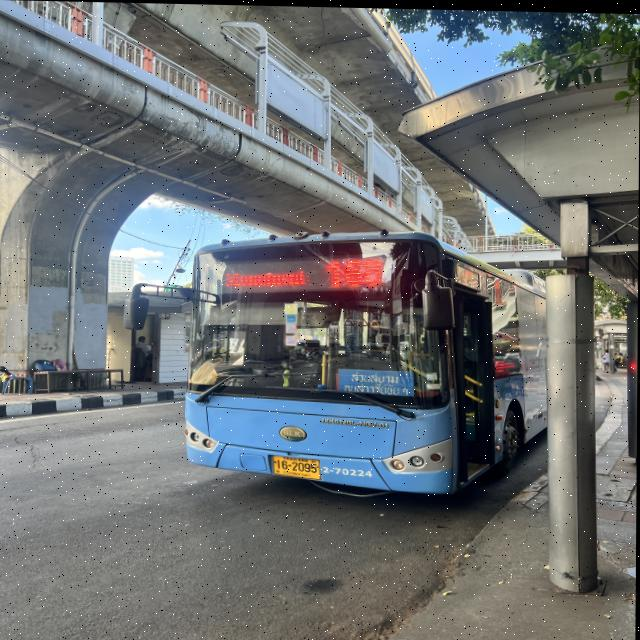BMTA-bus: (183, 231, 548, 496)
Bus Line Number: (320, 251, 388, 290)
Bus Side Number: (321, 462, 381, 478)
Destination Sign: (337, 366, 418, 395)
